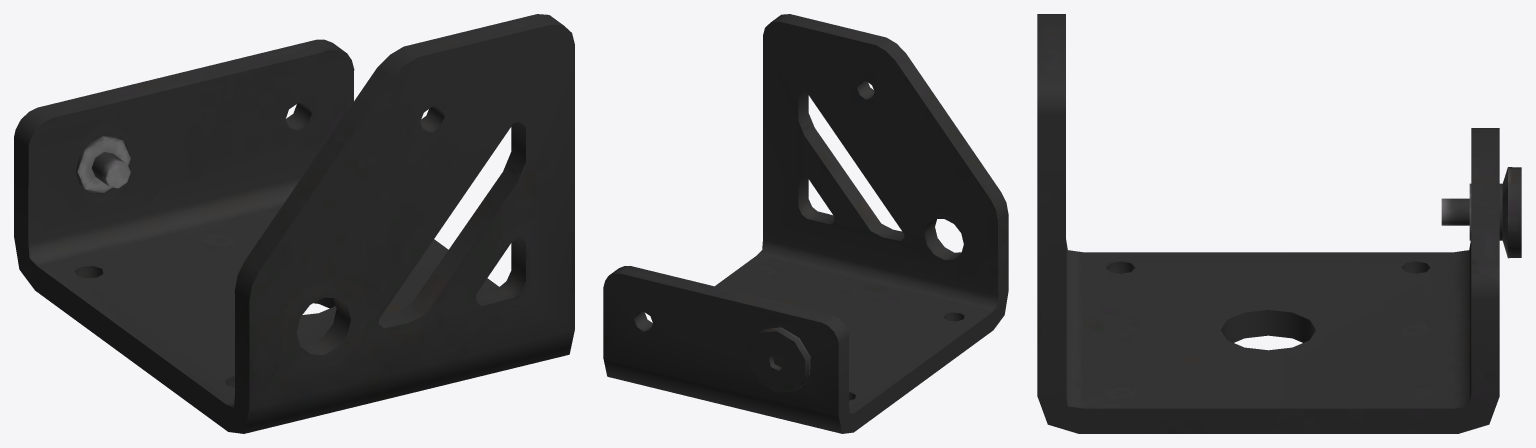
Rendered from endpoint_bracket.dae.
3 renders of one model, left to right at view 1: azimuth 30°, elevation 25°; view 2: azimuth 150°, elevation 25°; view 3: azimuth 270°, elevation 25°, orthographic. The views are drawn at different scales.
Visible parts, largest first — view 1: endpoint_bracket; view 2: endpoint_bracket; view 3: endpoint_bracket.
Boxes of the visible parts, bbox=[...] form: endpoint_bracket: bbox=[14, 14, 574, 433]; endpoint_bracket: bbox=[603, 14, 1008, 433]; endpoint_bracket: bbox=[1037, 14, 1521, 433].
Bounding box in the file's own units: 0.04 × 0.0524 × 0.041.
